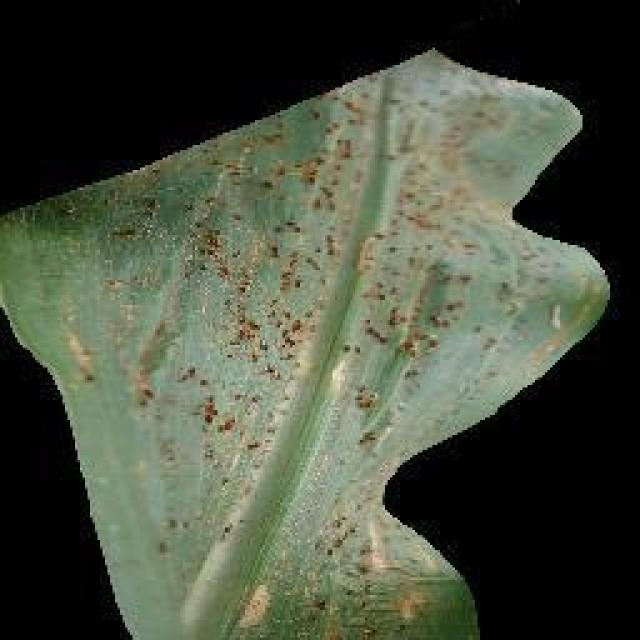Corn Common Rust: (203, 102, 495, 568)
